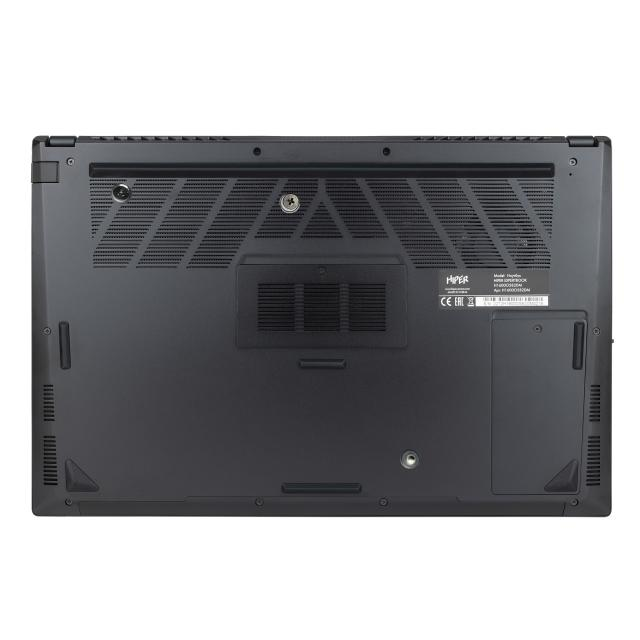lock: (110, 183, 132, 204), (279, 193, 300, 213)
missing_screw: (400, 449, 420, 469)
